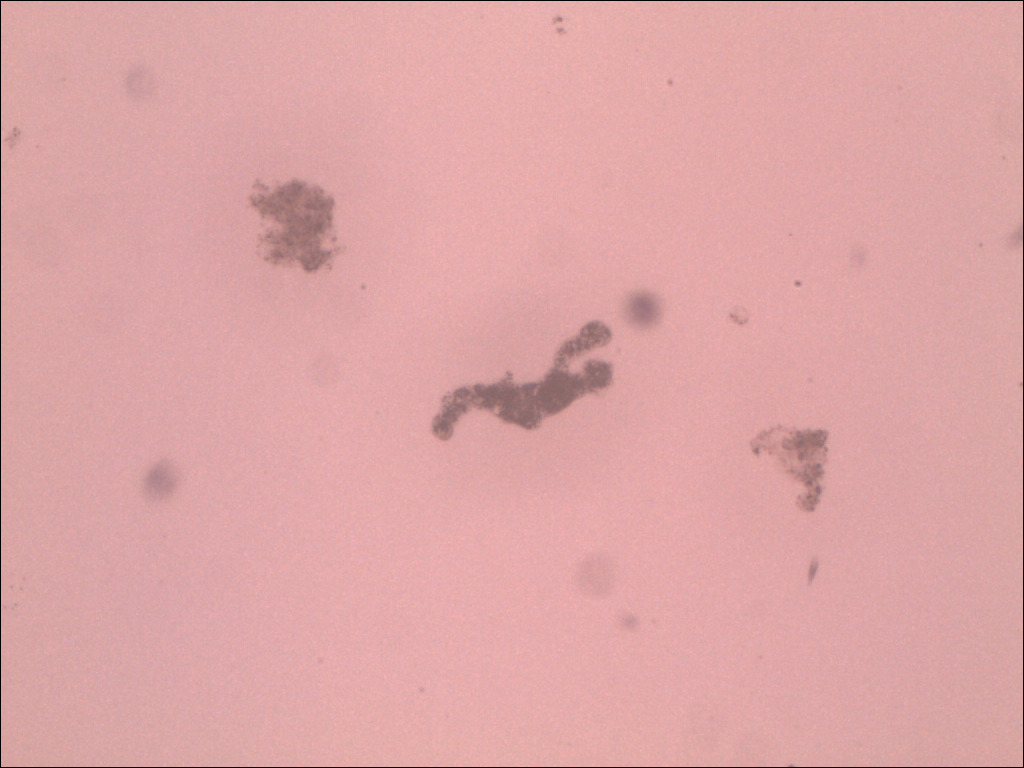amoeba: (418, 317, 630, 449)
